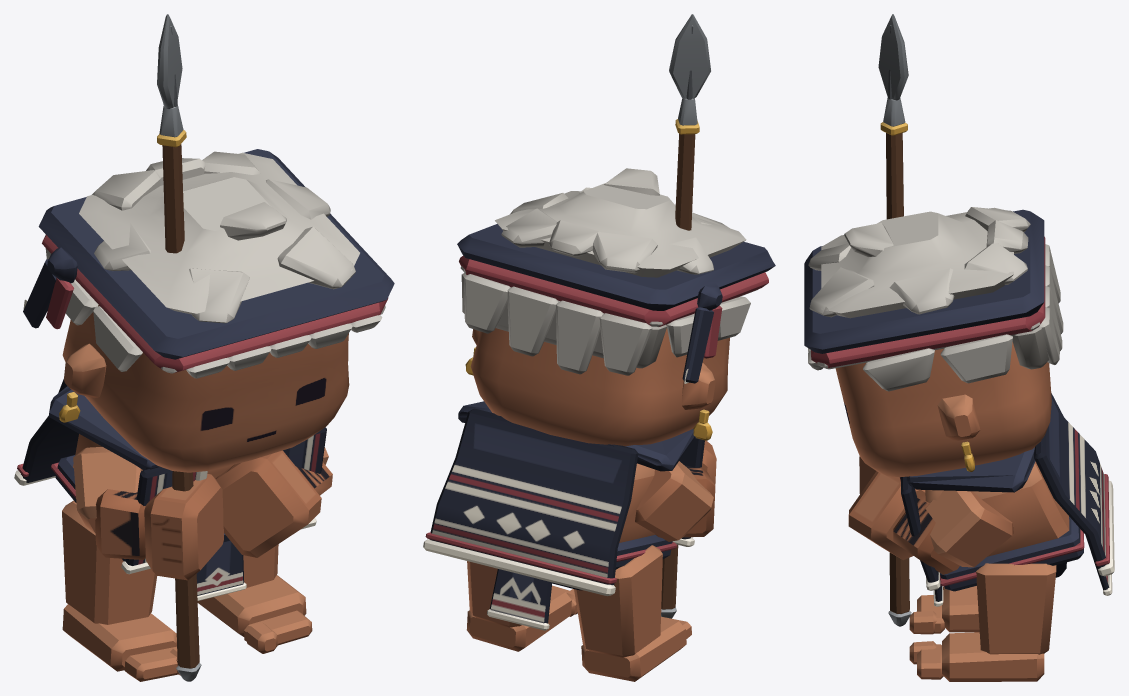
File: audience_v2_elder_man_clap.glb
3 views of the same model, side by side, from view 1: azimuth 30°, elevation 25°; view 2: azimuth 150°, elevation 25°; view 3: azimuth 270°, elevation 25° (orthographic). The views are drawn at different scales.
Parts seen in each view (by area): view 1: audience_v2_elder_man_clap; view 2: audience_v2_elder_man_clap; view 3: audience_v2_elder_man_clap.
Part boxes in pixels (x1=…): audience_v2_elder_man_clap: x1=14, y1=14, x2=394, y2=681; audience_v2_elder_man_clap: x1=423, y1=14, x2=775, y2=681; audience_v2_elder_man_clap: x1=804, y1=14, x2=1114, y2=681.
Size of the model in its own units: 0.3984 by 0.9213 by 0.4294.
Materials: 1 (1 with a texture image).
